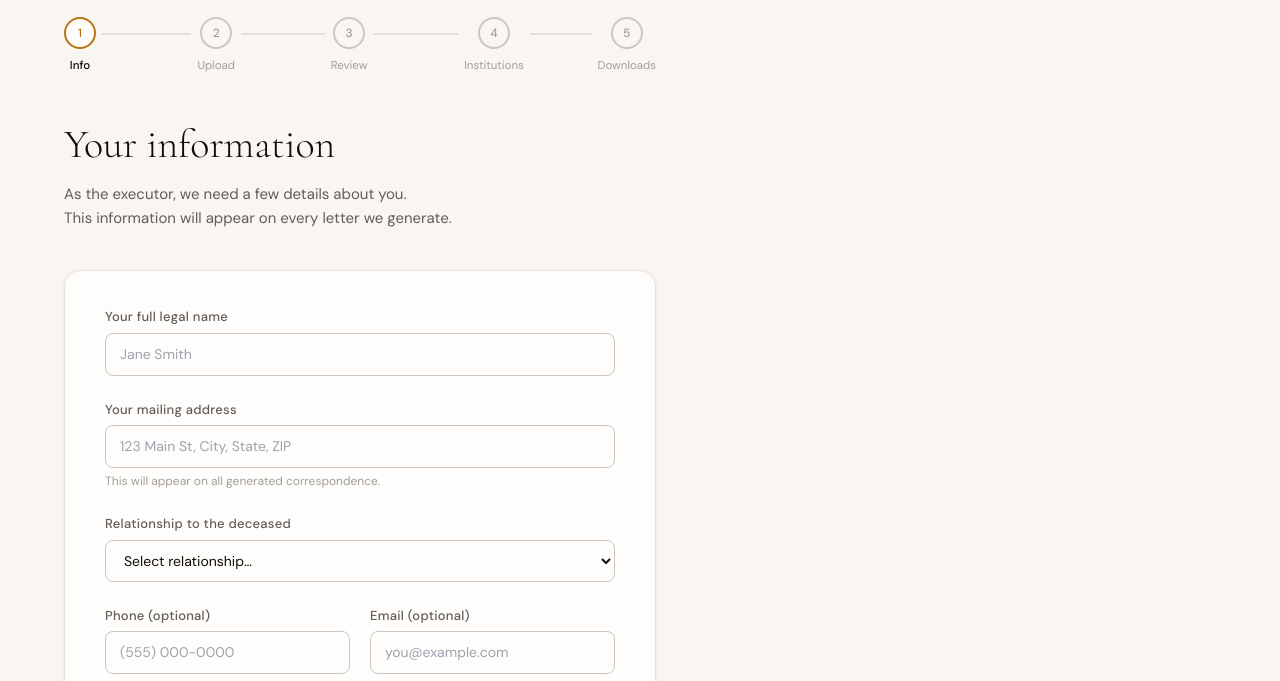
NewCasePage (integration) › shows an error toast when case creation fails
Type "Sarah Mitchell" into the field labelled "Your full legal name" at (360, 354), box [105,333,615,376]
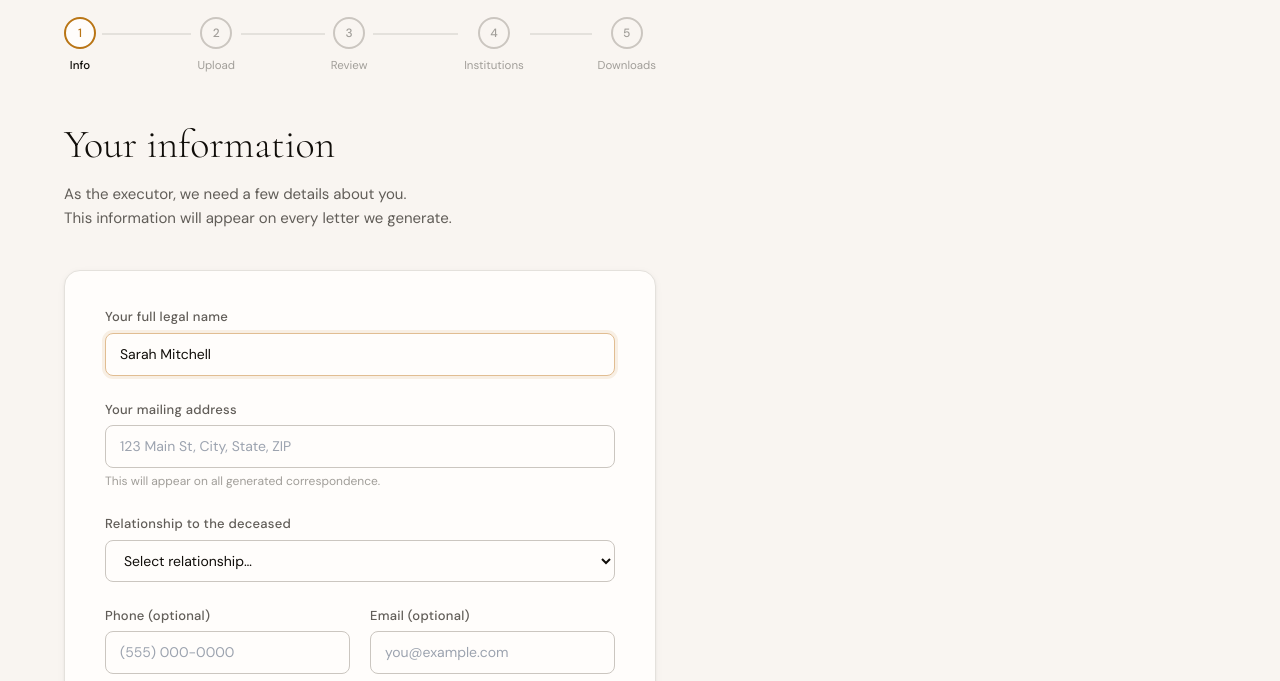
Type "412 Maple Ave, Springfield, IL" into the field labelled "Your mailing address" at (360, 447), box [105,425,615,468]
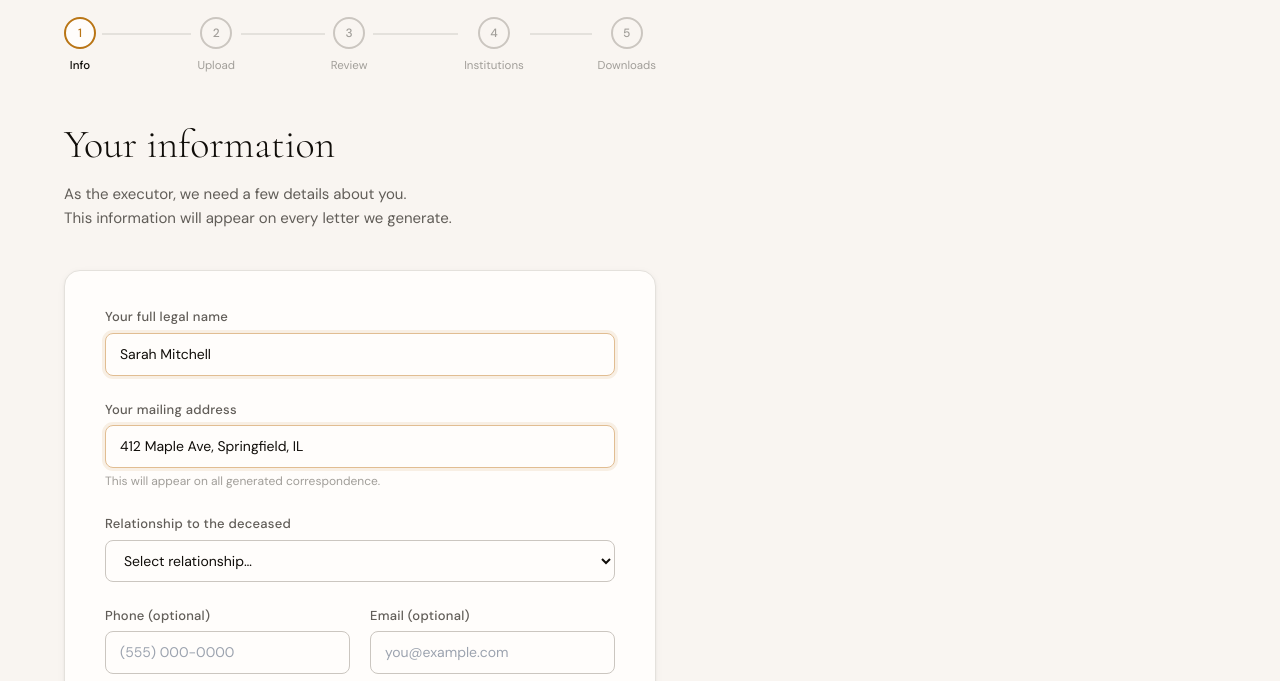
Select "Child" in the dropdown labelled "Relationship to the deceased" at (360, 561), box [105,540,615,582]
(page scrolled)
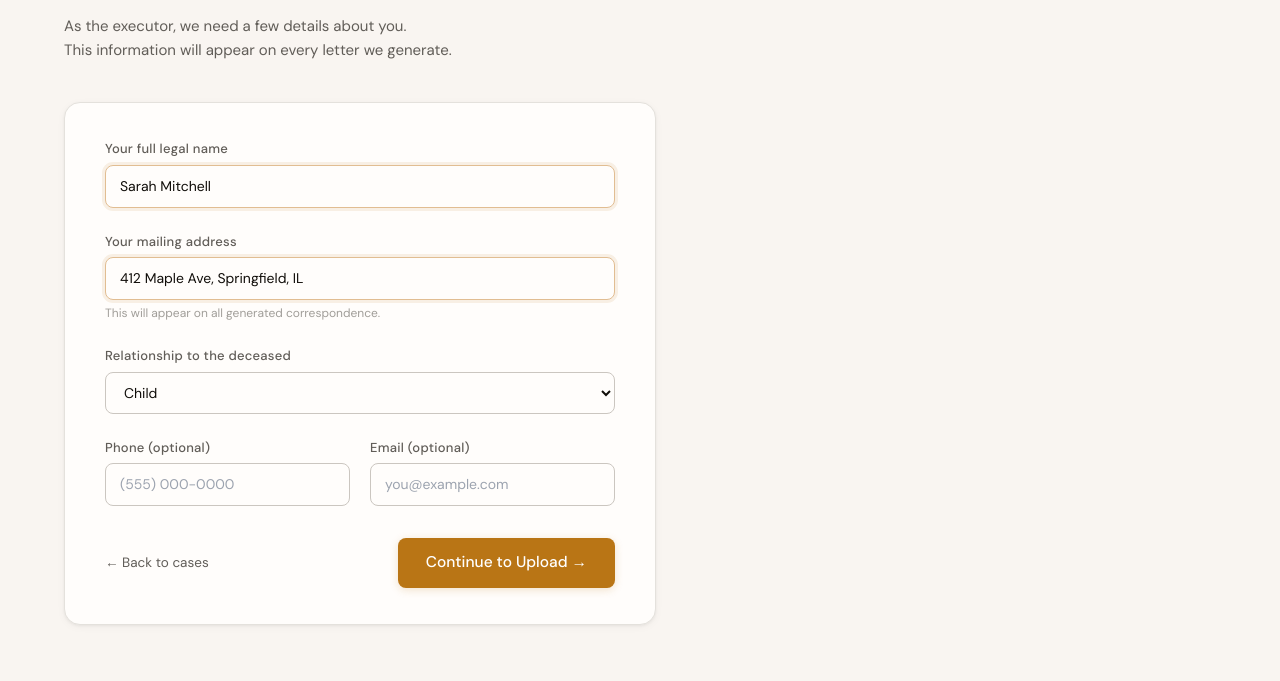
Click the button "Continue to Upload →" at (506, 563), box [398,538,615,588]
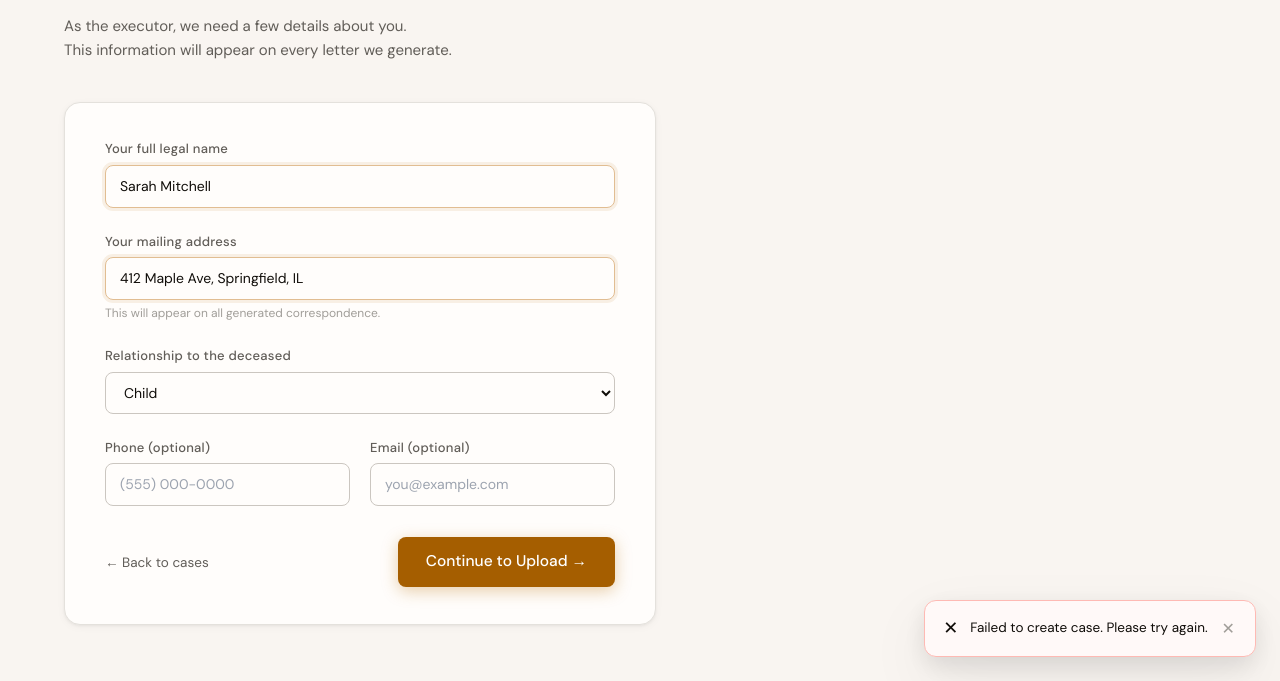
Check: the message shows "Failed to create case", box [970,619,1208,636]
